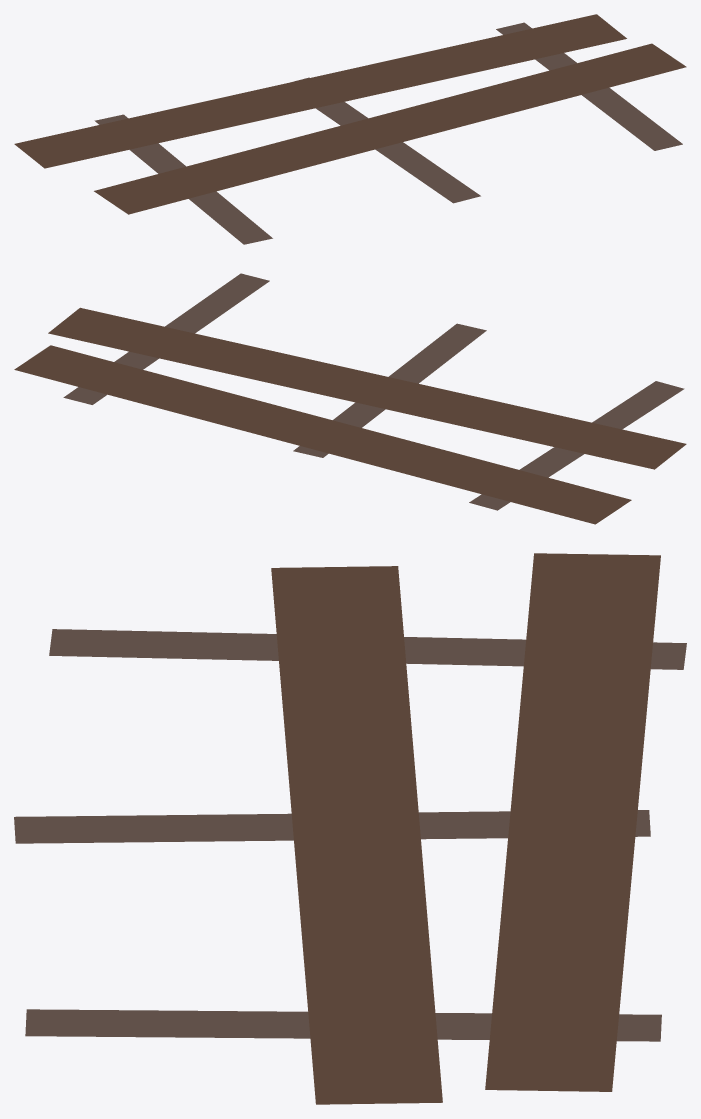
Rendered from Barricade_UIbutton.fbx.
The picture shows the model from 3 angles, top to bottom: view 1: azimuth 30°, elevation 25°; view 2: azimuth 150°, elevation 25°; view 3: azimuth 270°, elevation 25°; orthographic projection. The views are drawn at different scales.
Visible parts, largest first — view 1: Plane.001, Plane, Plane.003, Plane.004, Plane.002; view 2: Plane, Plane.001, Plane.002, Plane.004, Plane.003; view 3: Plane, Plane.001, Plane.004, Plane.003, Plane.002.
Boxes of the visible parts, x1,y1,x2,y2 form: Plane.001: (14, 14, 626, 168); Plane: (94, 43, 686, 214); Plane.003: (294, 77, 480, 203); Plane.004: (496, 22, 682, 150); Plane.002: (94, 114, 272, 244); Plane: (48, 307, 686, 469); Plane.001: (14, 345, 631, 524); Plane.002: (469, 381, 684, 510); Plane.004: (63, 273, 269, 404); Plane.003: (293, 323, 486, 457); Plane: (271, 566, 442, 1104); Plane.001: (485, 553, 660, 1091); Plane.004: (25, 1009, 661, 1041); Plane.003: (14, 810, 650, 843); Plane.002: (49, 629, 686, 669).
Bounding box in the file's own units: 1027 × 5 × 530.
